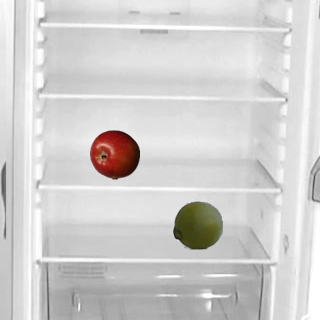Apple Braeburn: (89, 129, 139, 179)
Grape White 4: (172, 199, 222, 249)
